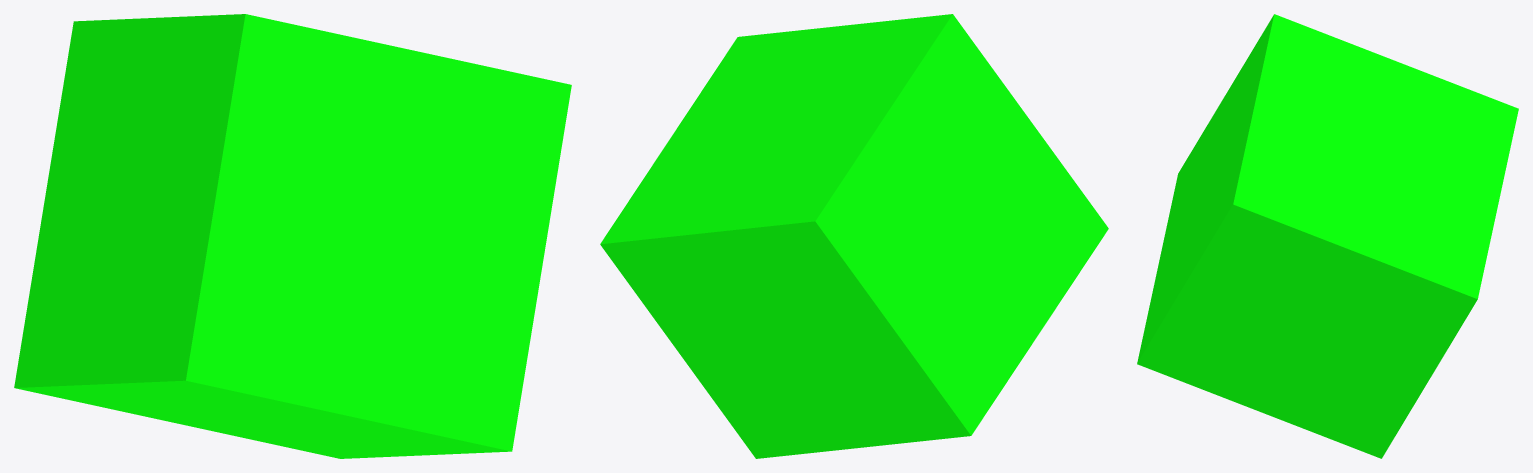
3 renders of one model, left to right at view 1: azimuth 30°, elevation 25°; view 2: azimuth 150°, elevation 25°; view 3: azimuth 270°, elevation 25°, orthographic. The views are drawn at different scales.
Bounding box in the file's own units: 1.31 × 1.6 × 1.44.
